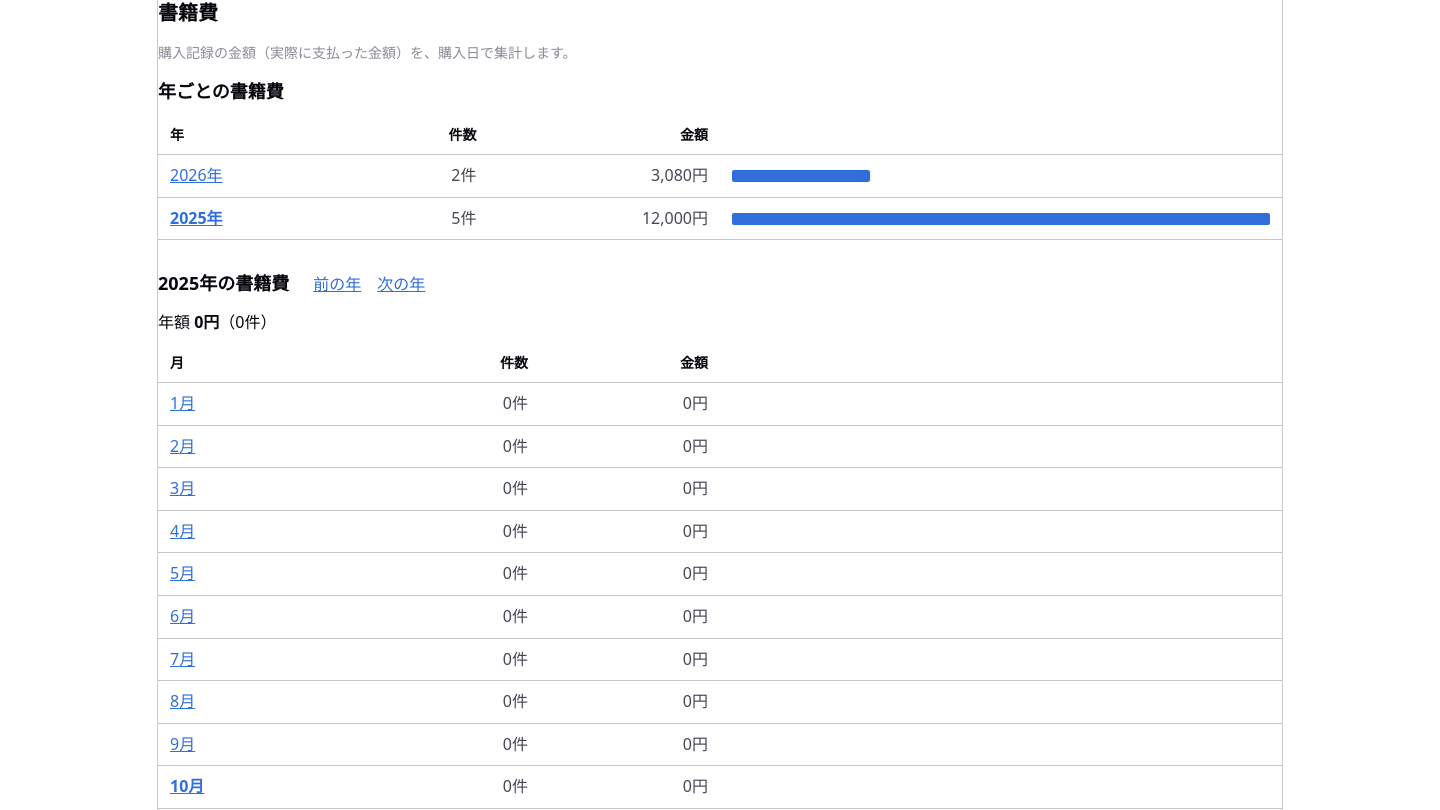
ExpensesPage › 月の明細 › 年を切り替えると明細を閉じる
Click the link "次の年": (401, 285) [377,272,425,298]
(page scrolled)
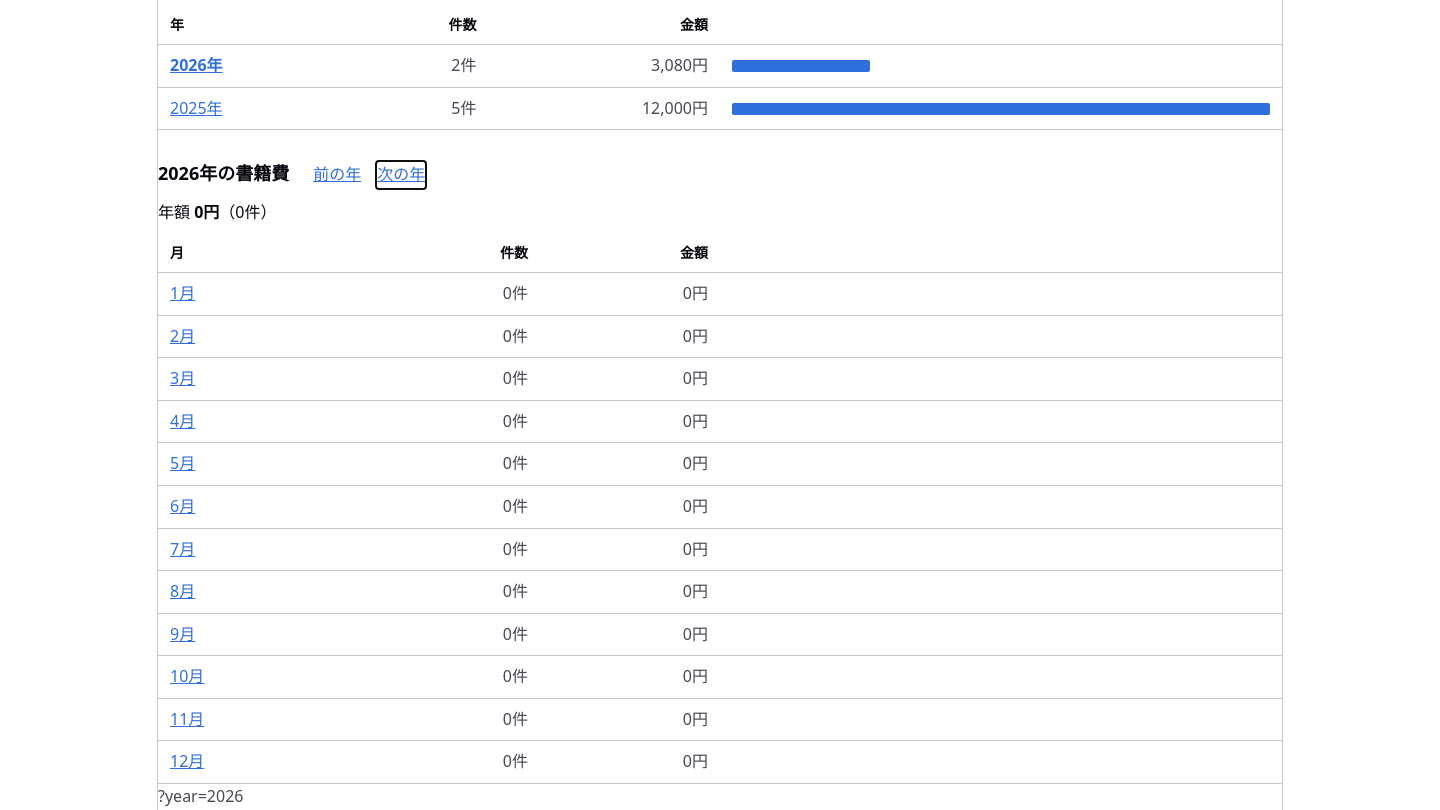
Result: the heading "2026年の書籍費" is shown at [158,162,289,186]
Result: the text with test id "location-search" reads "?year=2026" at [158,785,244,807]
